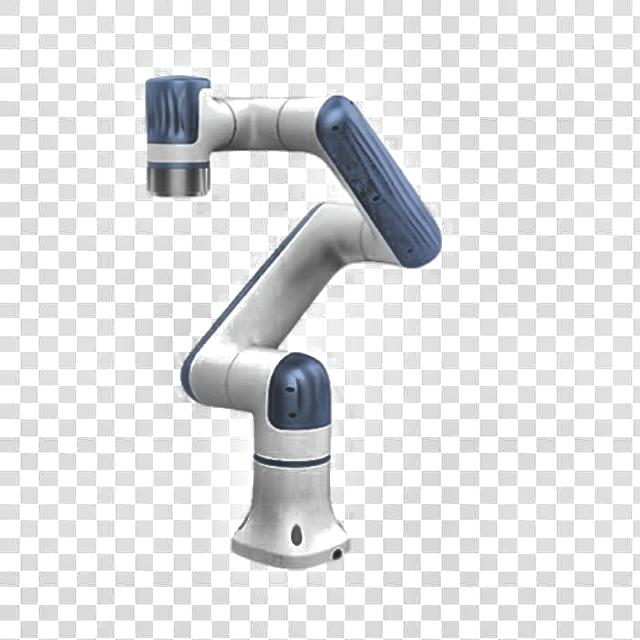robot: (143, 74, 442, 570)
